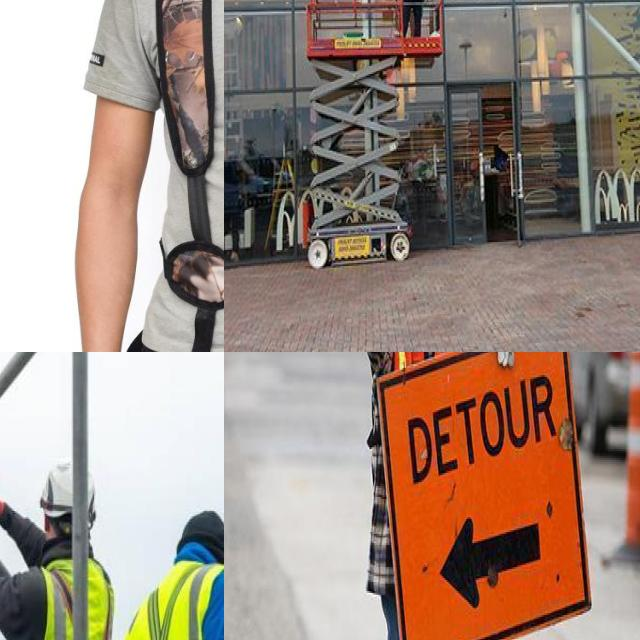Harness: (129, 0, 224, 352), (148, 574, 190, 640)
hand_glove: (488, 352, 521, 373)
person: (357, 352, 502, 640), (399, 0, 430, 40)
vest: (392, 352, 474, 489)
